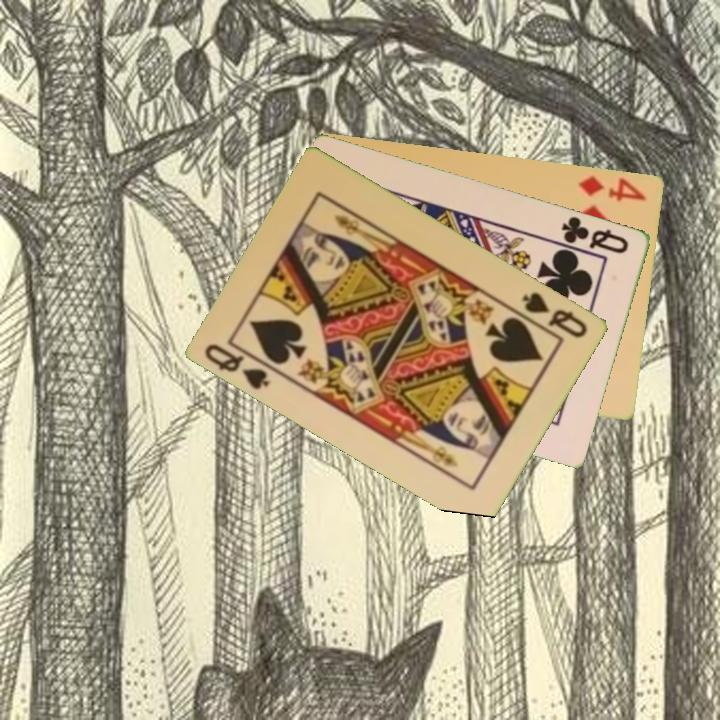4d: (575, 172, 651, 204)
Qc: (558, 212, 632, 257)
Qs: (519, 288, 591, 341), (201, 340, 273, 393)
